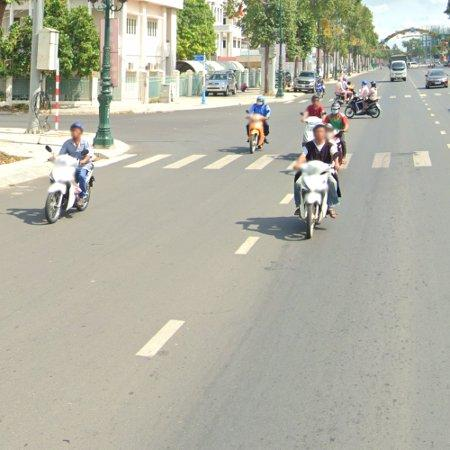crosswalks: (94, 155, 300, 172), (343, 151, 433, 170)
